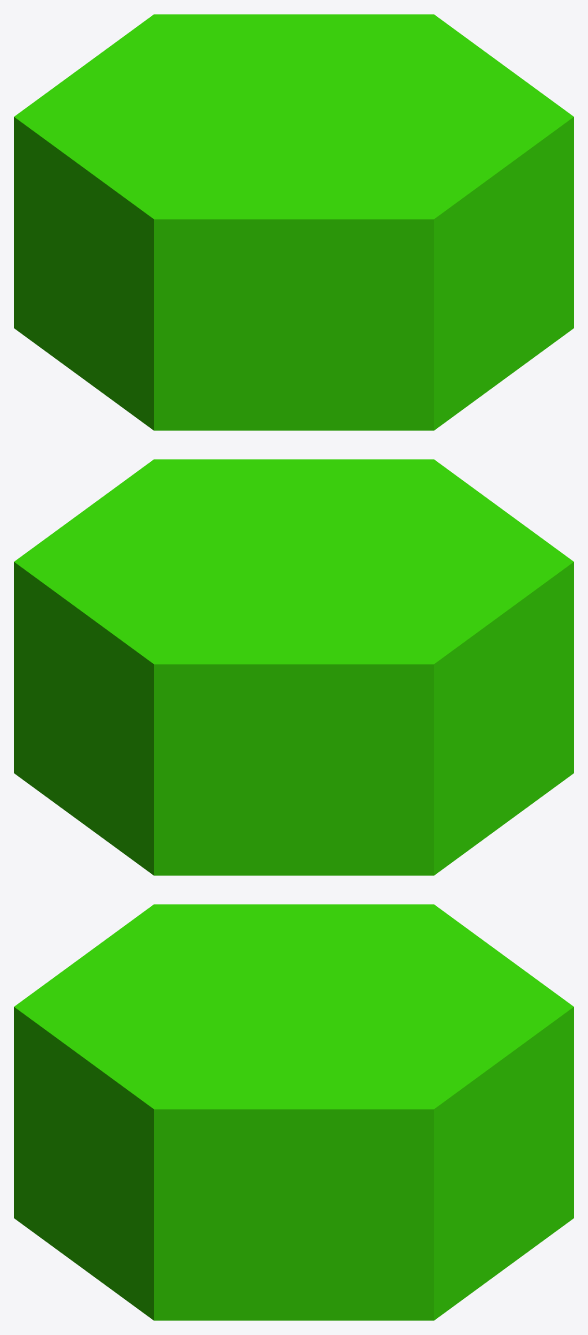
File: HexBaseH2.fbx
The picture shows the model from 3 angles, top to bottom: view 1: azimuth 30°, elevation 25°; view 2: azimuth 150°, elevation 25°; view 3: azimuth 270°, elevation 25°; orthographic projection.
Visible parts, largest first — view 1: HexagonTileBase; view 2: HexagonTileBase; view 3: HexagonTileBase.
Boxes of the visible parts, x1,y1,x2,y2 form: HexagonTileBase: (14,14,573,430); HexagonTileBase: (14,459,573,875); HexagonTileBase: (14,904,573,1320).
Bounding box in the file's own units: 173 × 83.32 × 200.
